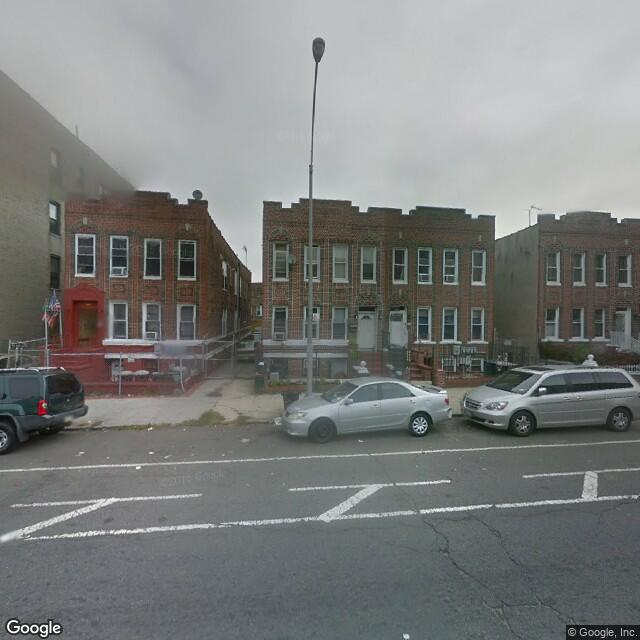litter: (78, 443, 191, 481), (87, 417, 200, 437), (269, 415, 288, 426)
